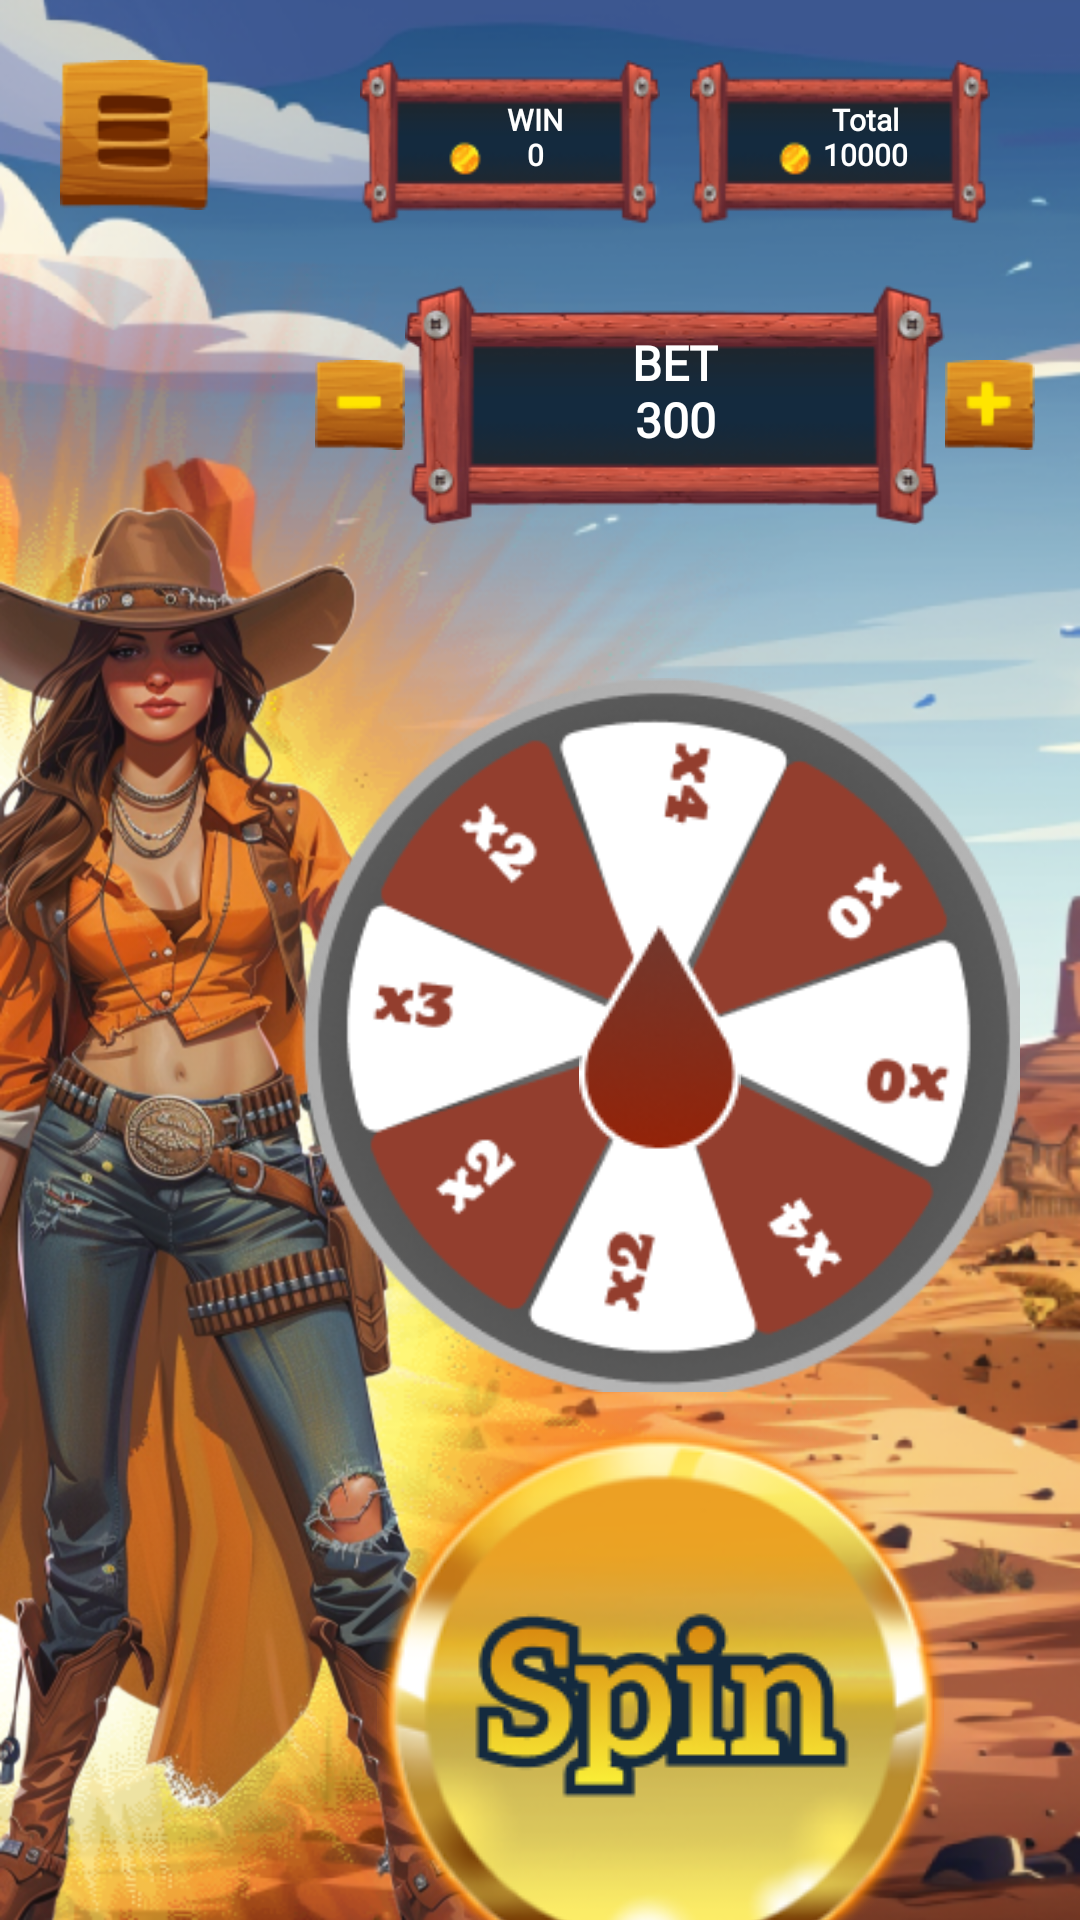

Icons on this 1080 x 1920 Android screen, each with the point to tap as [x,y]:
minus second bet: [360,405]
plus second bet: [990,405]
